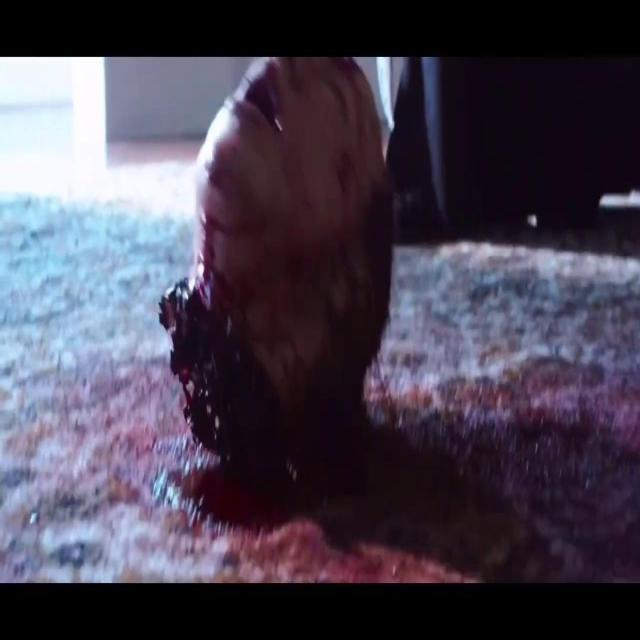flood: (152, 255, 466, 578)
